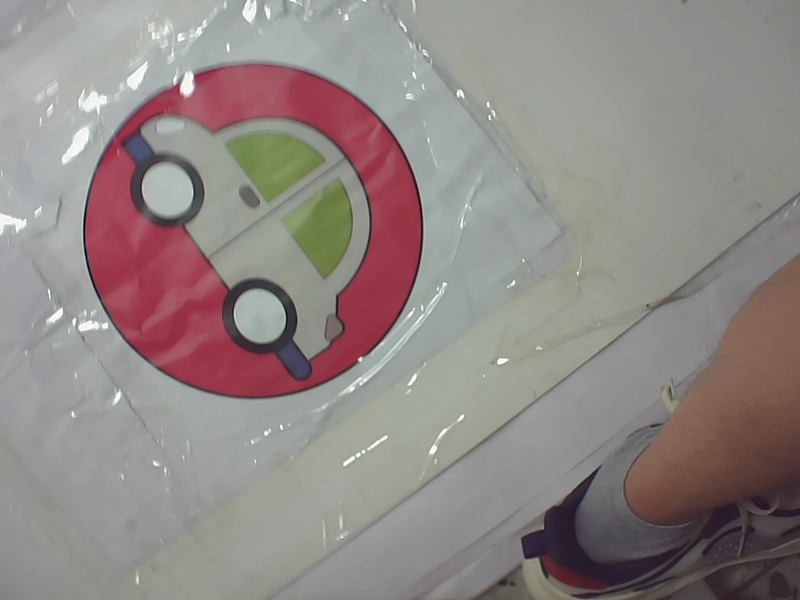areaC: (71, 53, 435, 409)
